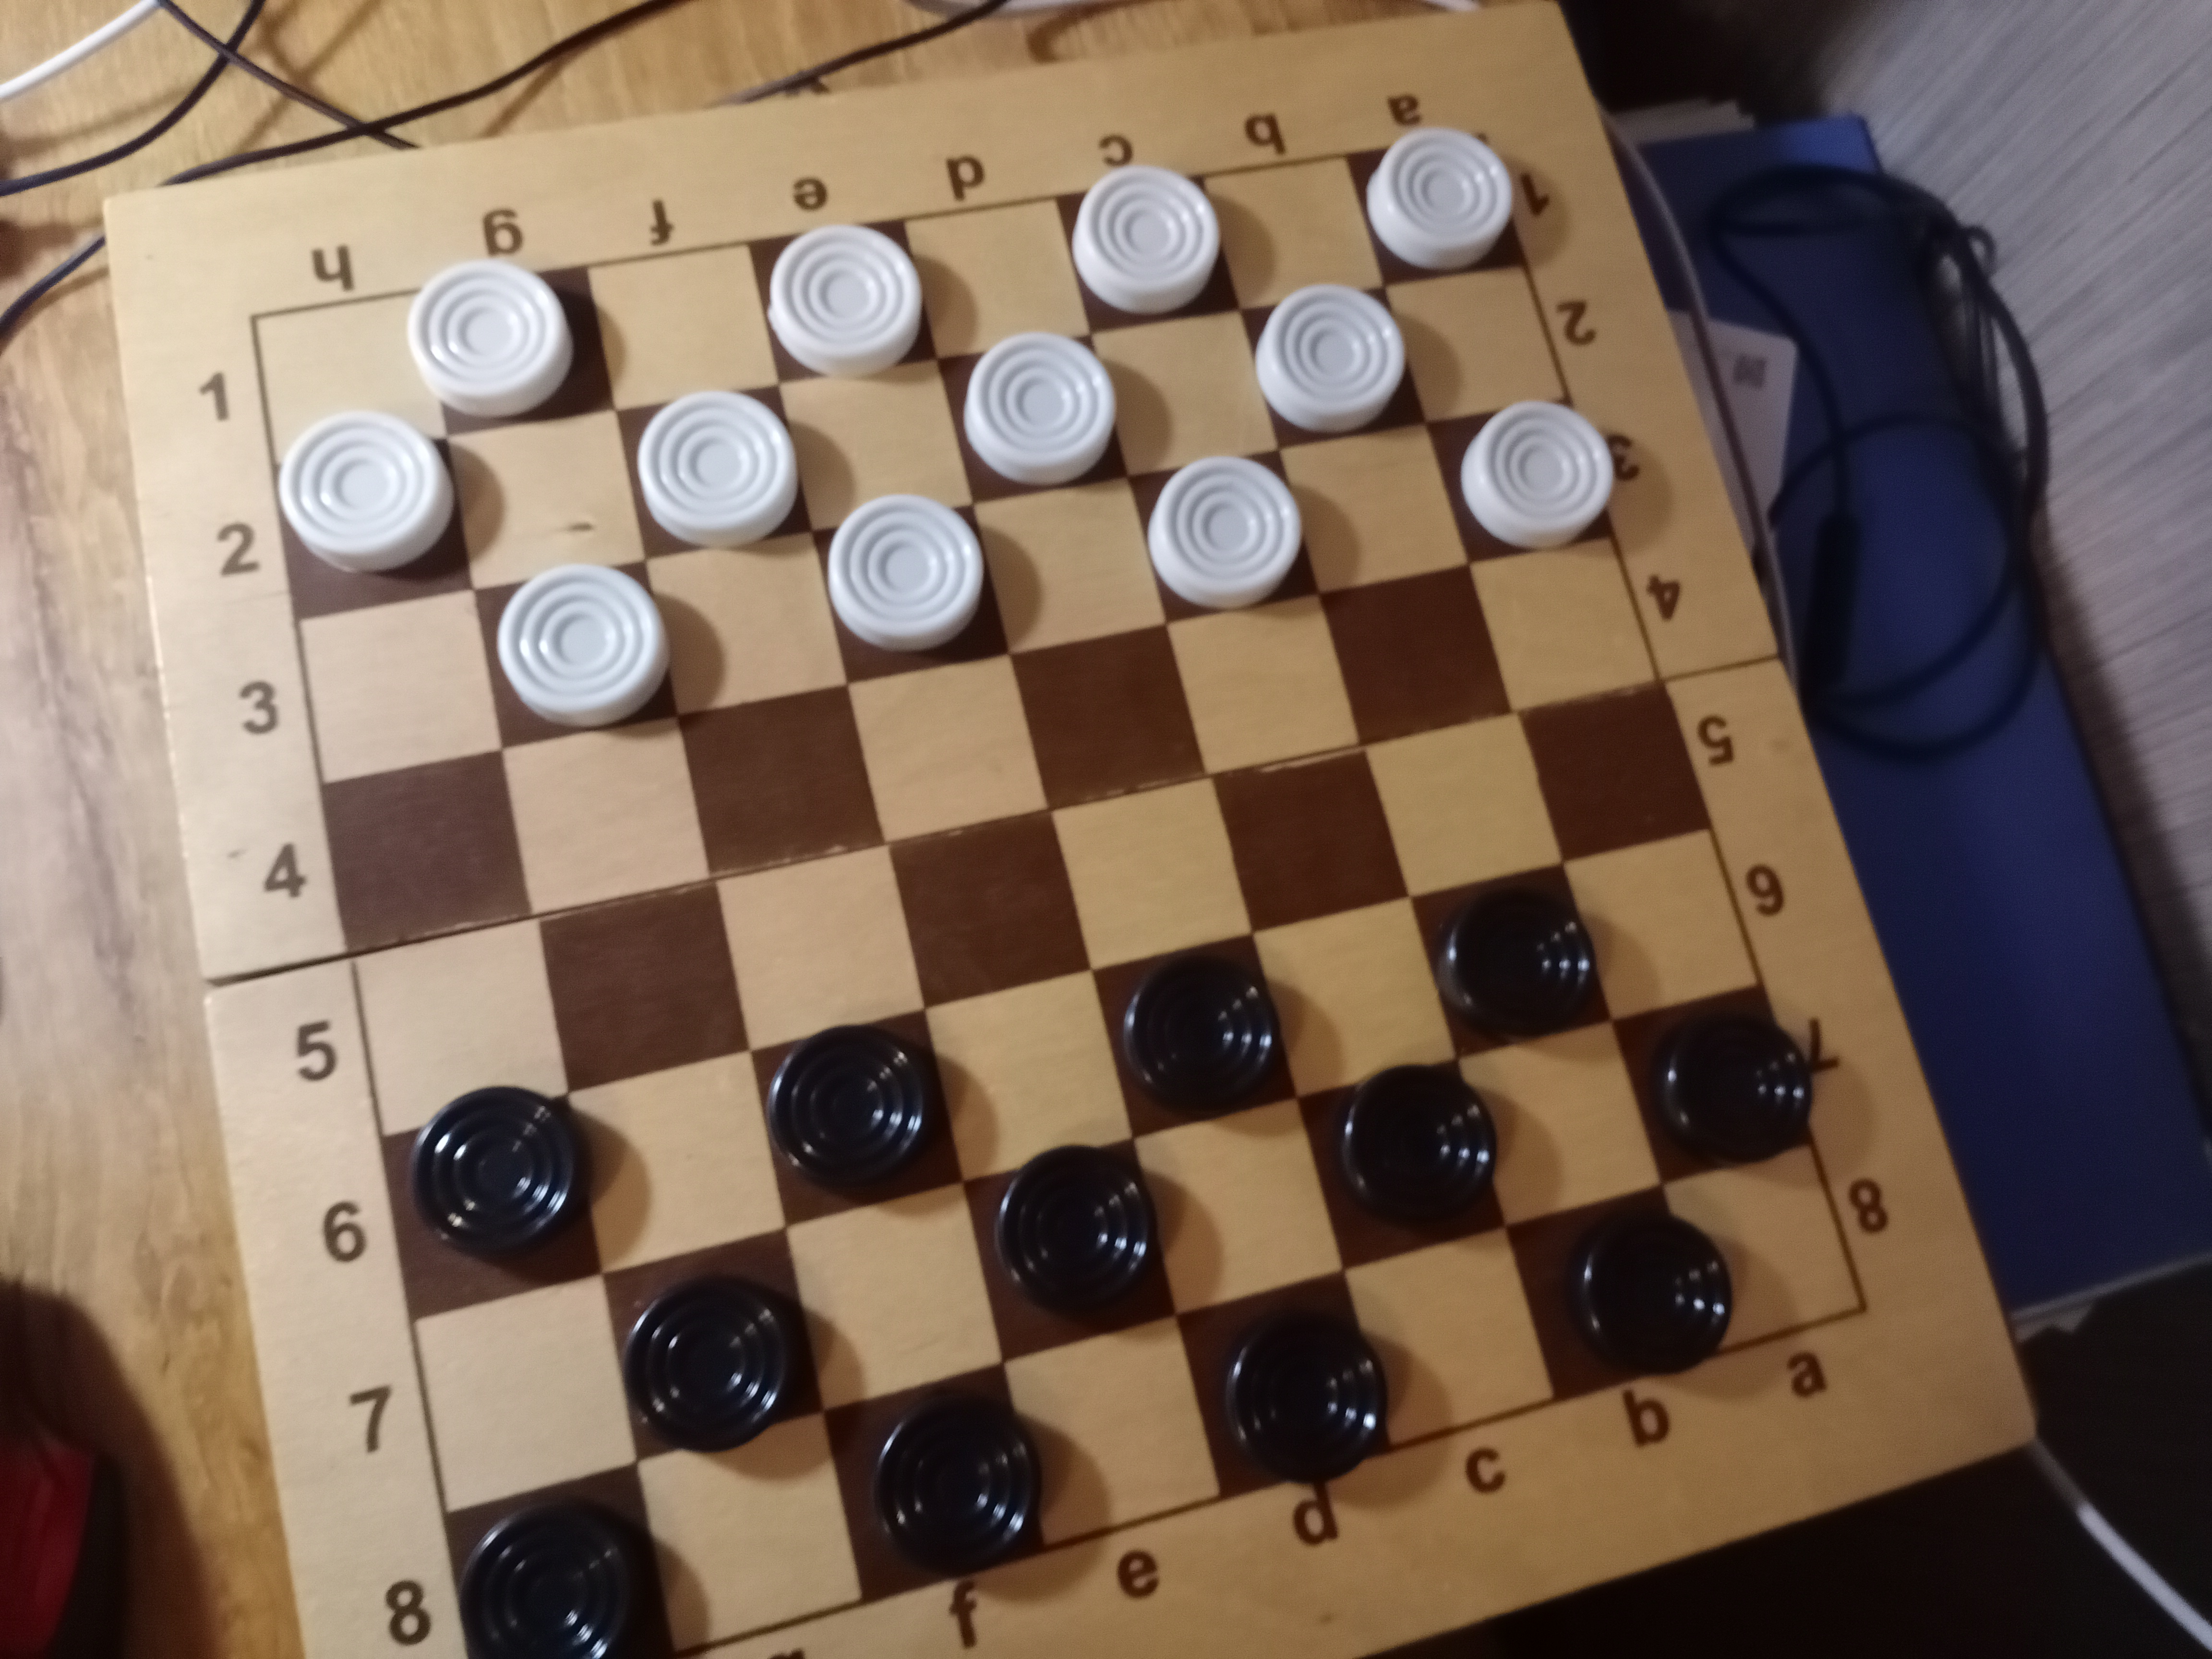Black_Draught: (374, 1087, 603, 1321), (822, 1366, 1045, 1603), (603, 1230, 822, 1462), (1176, 1269, 1390, 1495), (1507, 1185, 1733, 1399), (963, 1140, 1176, 1368), (432, 1466, 676, 1659), (749, 1009, 961, 1230), (1296, 1058, 1503, 1270), (1090, 934, 1298, 1140), (1611, 986, 1813, 1183), (1411, 863, 1611, 1060)
